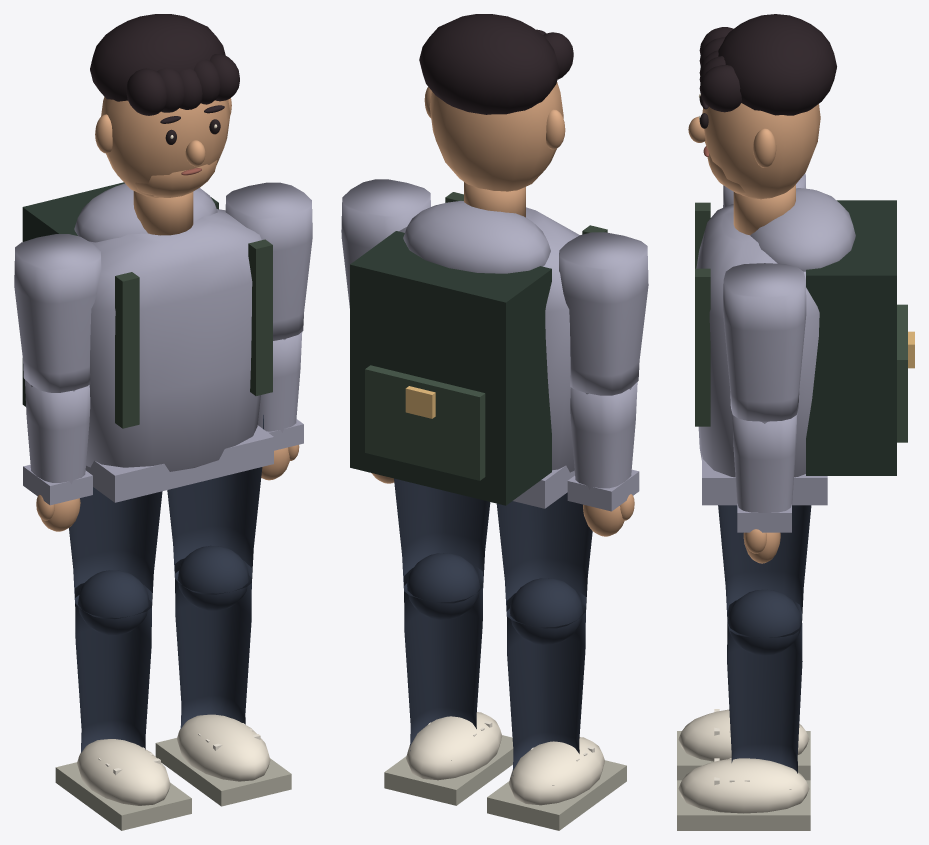
Rendered from player.glb.
3 views of the same model, side by side, from view 1: azimuth 30°, elevation 25°; view 2: azimuth 150°, elevation 25°; view 3: azimuth 270°, elevation 25° (orthographic). The views are drawn at different scales.
Parts seen in each view (by area): view 1: Hoodie, Upper sleeve, Trouser shin.001, Trouser shin, Upper sleeve.001, Head, Trouser thigh, Trouser thigh.001, Hair, Lower sleeve, Hoodie hem, Sneaker.001 (+22 smaller); view 2: Backpack, Upper sleeve, Hair, Backpack pocket, Head, Trouser shin.001, Trouser shin, Hood, Trouser thigh, Trouser thigh.001, Lower sleeve, Hoodie (+14 smaller); view 3: Backpack, Upper sleeve.001, Hoodie, Hair, Trouser shin.001, Head, Sneaker.001, Trouser thigh.001, Hood, Lower sleeve.001, Knee joint.001, Shoe sole.001 (+11 smaller).
Boxes of the visible parts, x1,y1,x2,y2 form: Hoodie: (86,209,273,471); Upper sleeve: (14,234,101,392); Trouser shin.001: (175,558,251,728); Trouser shin: (75,583,151,752); Upper sleeve.001: (225,182,312,340); Head: (101,97,230,197); Trouser thigh: (69,487,162,619); Trouser thigh.001: (167,415,263,594); Hair: (90,14,225,101); Lower sleeve: (25,380,90,484); Hoodie hem: (85,425,273,502); Sneaker.001: (177,714,270,781); Backpack: (350,231,551,505); Upper sleeve: (559,232,648,395); Hair: (419,14,559,114); Backpack pocket: (365,365,485,480); Head: (429,82,563,191); Trouser shin.001: (404,566,483,760); Trouser shin: (506,591,585,785); Hood: (403,201,550,273); Trouser thigh: (496,492,592,628); Trouser thigh.001: (394,478,490,603); Lower sleeve: (570,382,637,489); Hoodie: (399,207,579,472); Backpack: (806,200,896,475); Upper sleeve.001: (723,263,806,421); Hoodie: (696,204,819,477); Hair: (718,14,836,115); Trouser shin.001: (727,600,802,789); Head: (702,103,820,199); Sneaker.001: (678,758,809,813); Trouser thigh.001: (718,505,811,637); Hood: (750,188,855,271); Lower sleeve.001: (732,413,797,512); Knee joint.001: (727,589,801,655); Shoe sole.001: (677,780,810,830).
Bounding box in the file's own units: 0.762 × 1.95 × 0.548.
